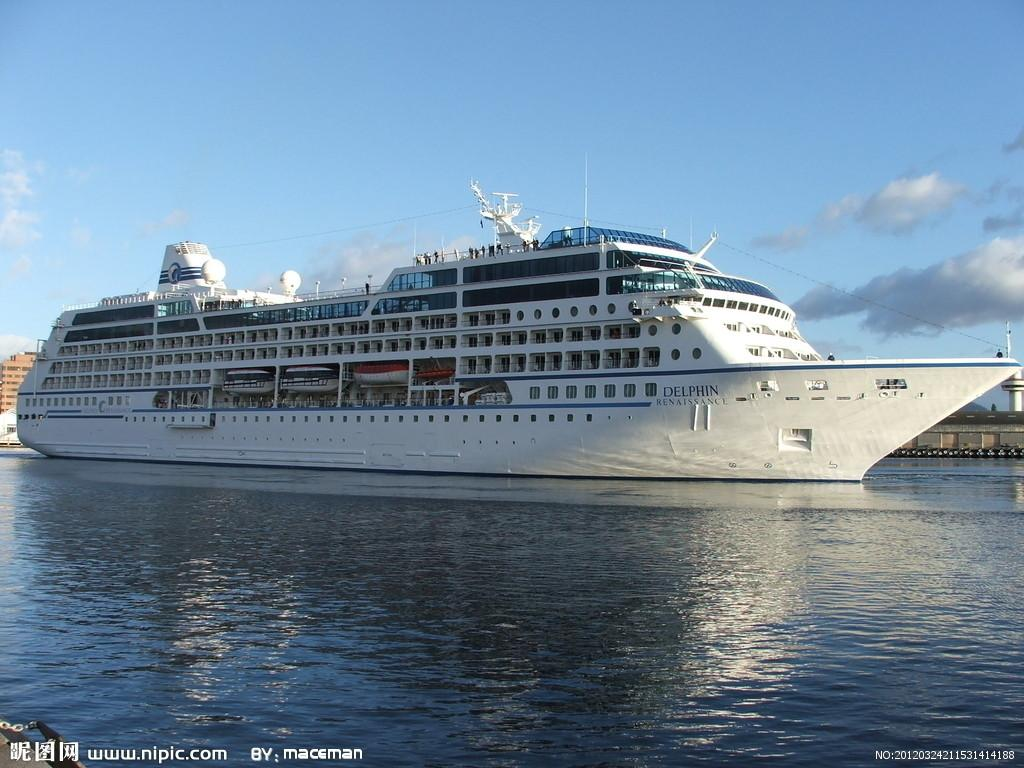youlun: (13, 193, 1015, 483)
